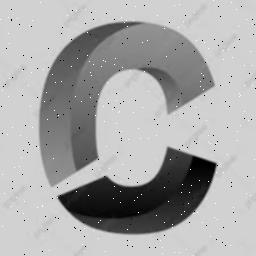c: (34, 18, 226, 244)
